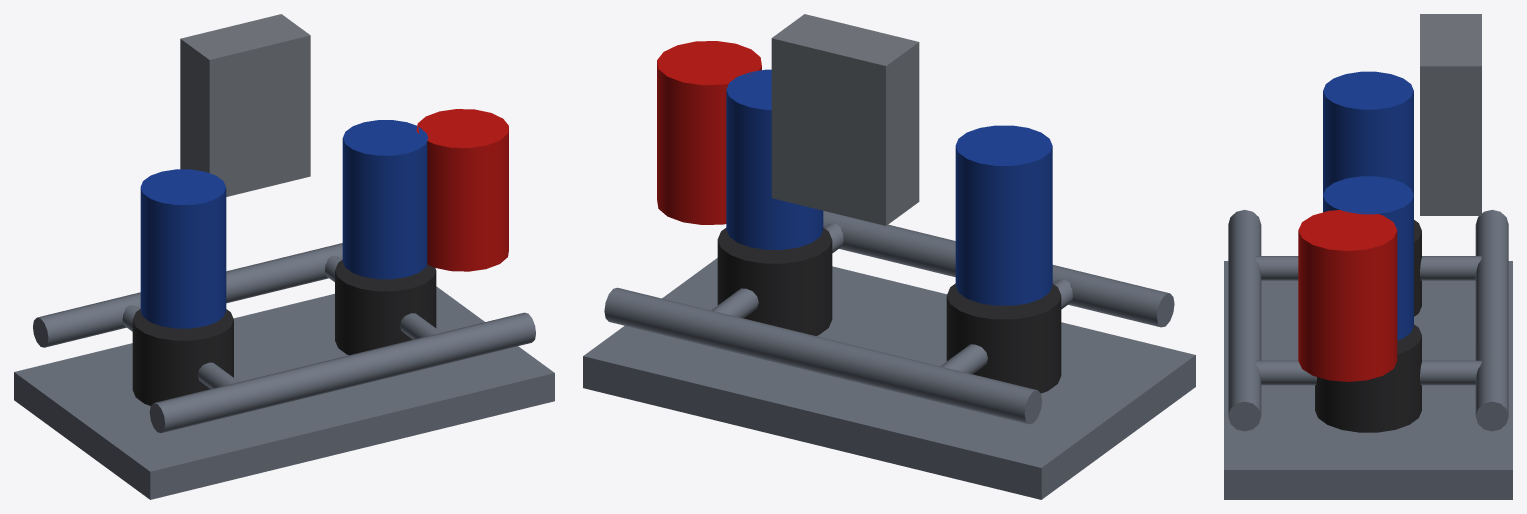
The model's file is services.plant.pump_set.glb.
The picture shows the model from 3 angles, left to right: view 1: azimuth 30°, elevation 25°; view 2: azimuth 150°, elevation 25°; view 3: azimuth 270°, elevation 25°; orthographic projection. The views are drawn at different scales.
Parts seen in each view (by area): view 1: main__steel_painted, main__plastic_blue, main__laminate_grey, main__cast_iron, main__plastic_red; view 2: main__steel_painted, main__laminate_grey, main__plastic_blue, main__cast_iron, main__plastic_red; view 3: main__steel_painted, main__plastic_red, main__plastic_blue, main__laminate_grey, main__cast_iron.
Part boxes in pixels (box(x1,y1,x2,y2)): main__steel_painted: box(14, 243, 554, 499); main__plastic_blue: box(140, 120, 428, 328); main__laminate_grey: box(180, 14, 310, 196); main__cast_iron: box(132, 260, 436, 405); main__plastic_red: box(416, 109, 508, 271); main__steel_painted: box(583, 211, 1195, 499); main__laminate_grey: box(771, 14, 919, 225); main__plastic_blue: box(726, 69, 1052, 305); main__cast_iron: box(717, 227, 1061, 393); main__plastic_red: box(657, 41, 761, 224); main__steel_painted: box(1224, 209, 1512, 499); main__plastic_red: box(1298, 210, 1397, 381); main__plastic_blue: box(1323, 71, 1413, 340); main__laminate_grey: box(1420, 14, 1481, 215); main__cast_iron: box(1315, 220, 1421, 432).
Bounding box in the file's own units: 1.22 × 0.95 × 0.7.
